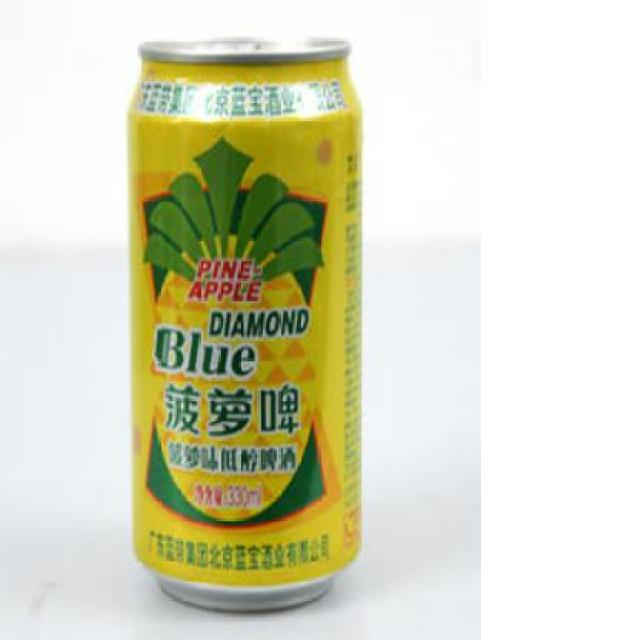Metal: (127, 34, 363, 614)
